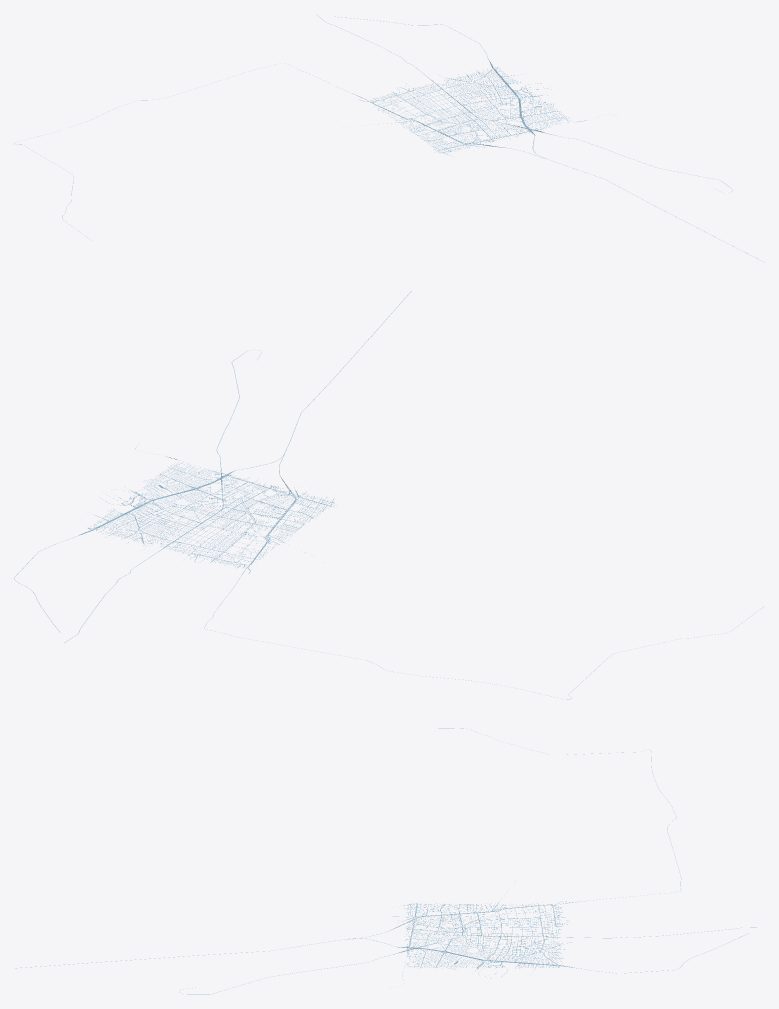
File: roads.glb
3 renders of one model, top to bottom at view 1: azimuth 30°, elevation 25°; view 2: azimuth 150°, elevation 25°; view 3: azimuth 270°, elevation 25°, orthographic. The views are drawn at different scales.
Visible parts, largest first — view 1: roads; view 2: roads; view 3: roads.
Boxes of the visible parts, <box> form: roads: <box>14,14,764,262</box>; roads: <box>14,291,764,699</box>; roads: <box>15,728,756,994</box>.
Size of the model in its own units: 18814 by 68.39 by 22408.
